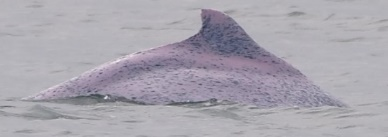fin: (21, 2, 360, 127)
